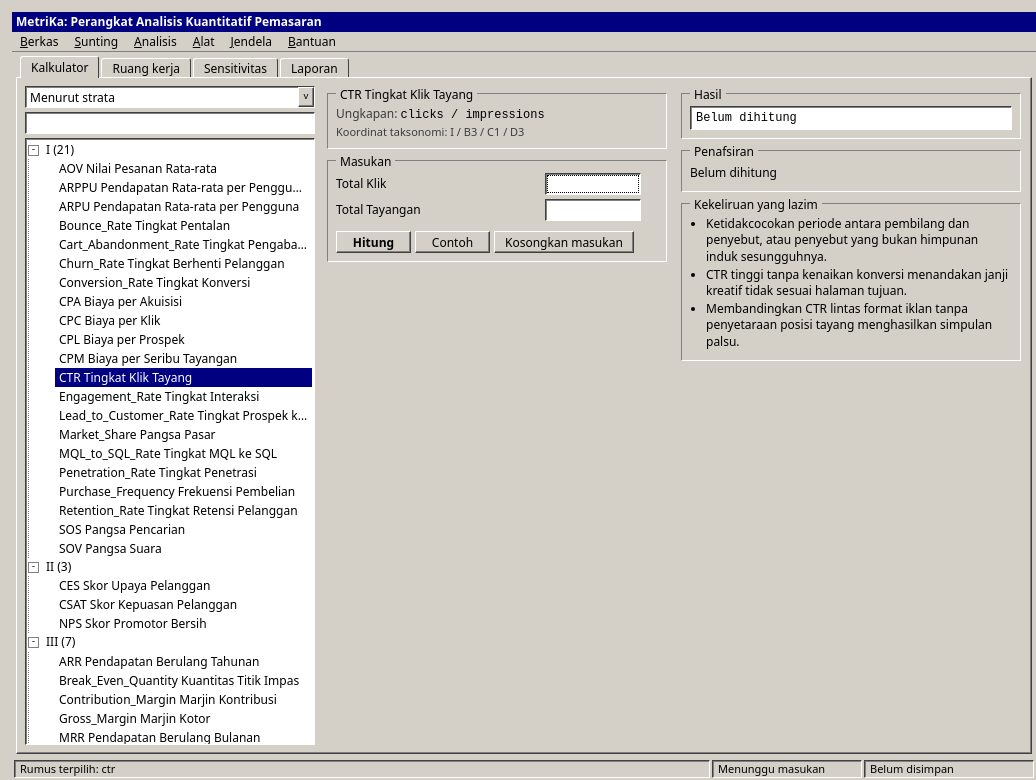
Test: the workbench screen › switches between the two screens from the Window menu as well as the tabs
Expected: the search field named "Cari rumus" is shown, [25, 112, 315, 134]
Click the tab "Ruang kerja" at x=146, y=68, box [102, 58, 191, 78]
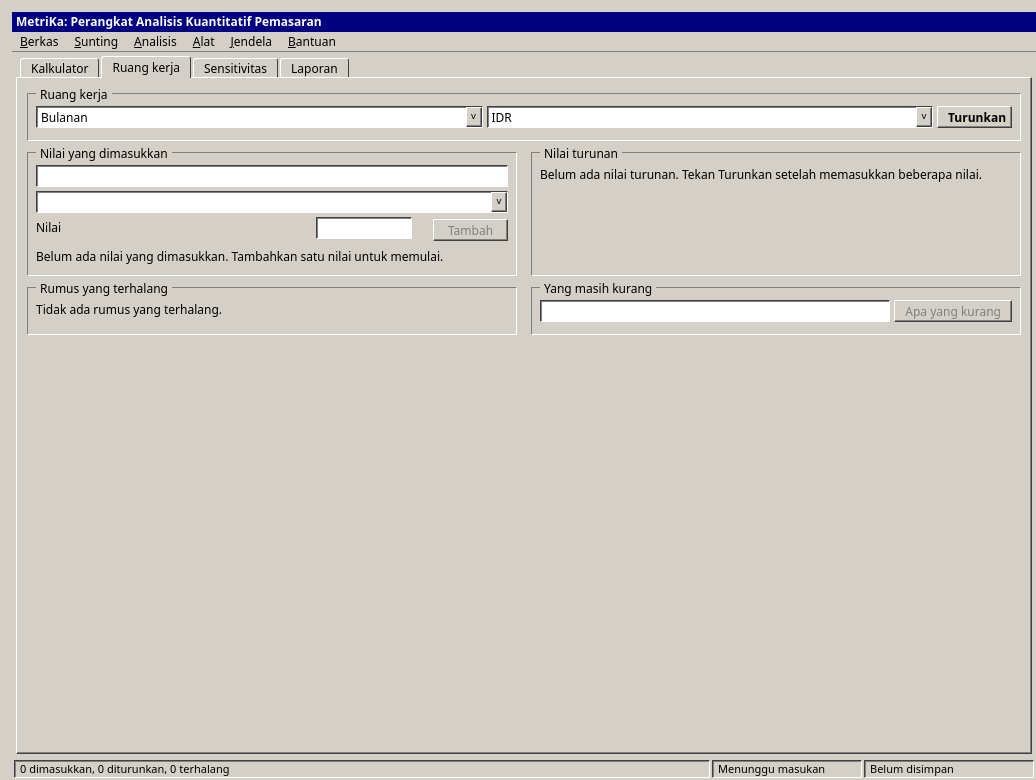
Expected: the button "Turunkan" is shown, [937, 106, 1012, 128]
Click the tab "Kalkulator" at x=60, y=68, box [20, 58, 100, 78]
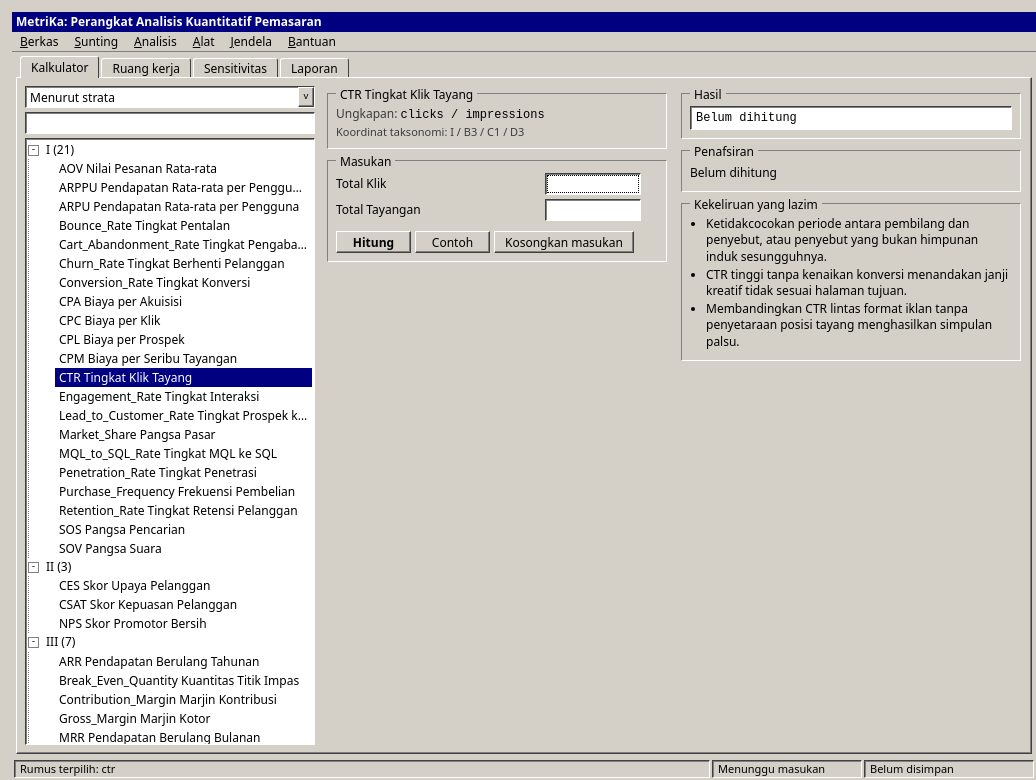
Expected: the search field named "Cari rumus" is shown, [25, 112, 315, 134]
